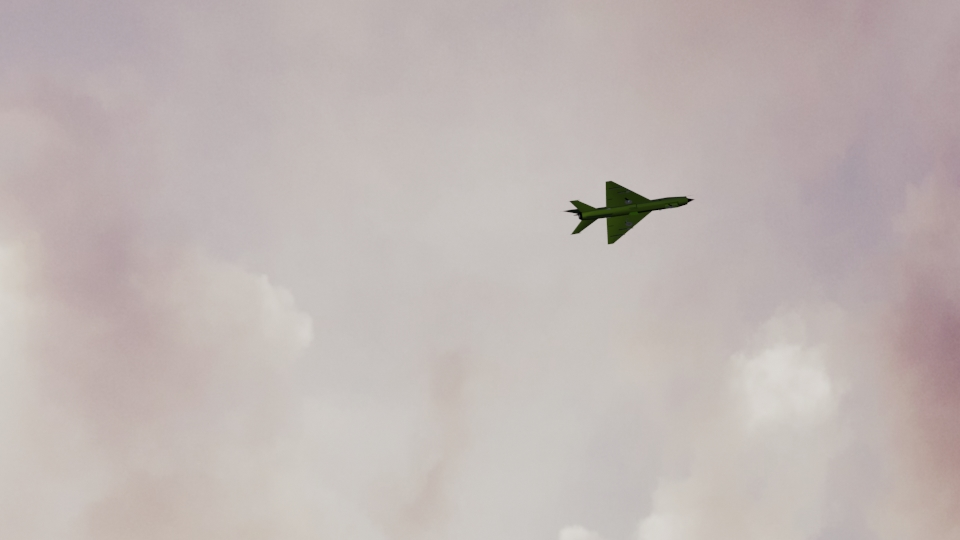plane: (564, 179, 694, 245)
